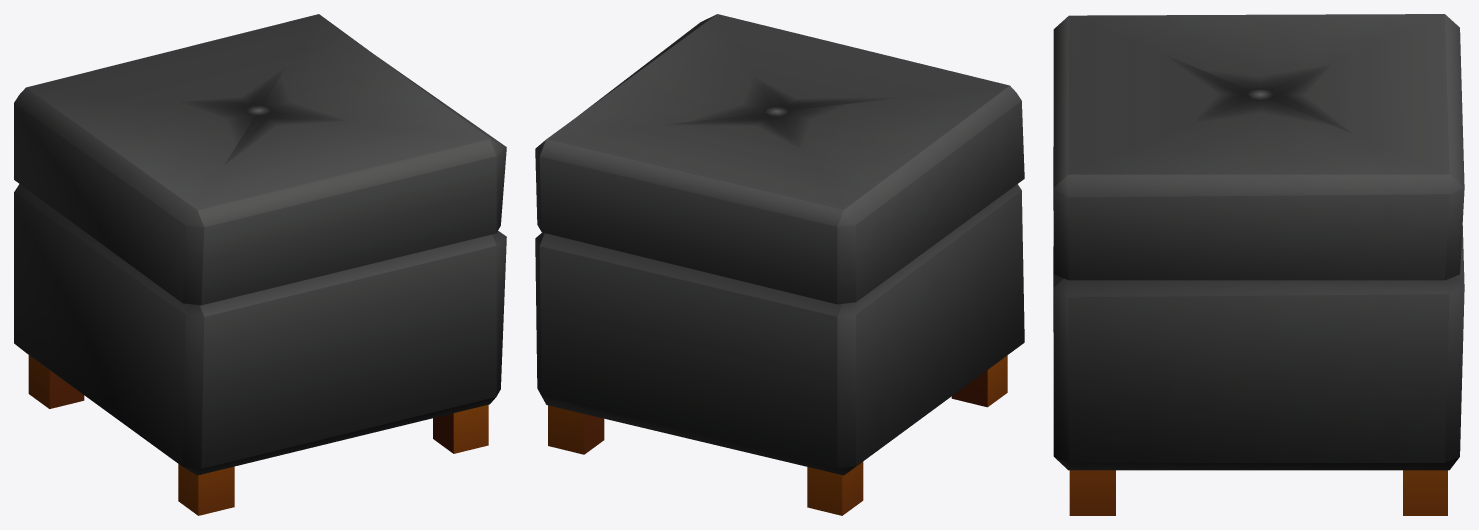
Rendered from TSP_Ottoman_01B.fbx.
The picture shows the model from 3 angles, left to right: view 1: azimuth 30°, elevation 25°; view 2: azimuth 150°, elevation 25°; view 3: azimuth 270°, elevation 25°; orthographic projection. The views are drawn at different scales.
Parts seen in each view (by area): view 1: TSP_Ottoman_01B; view 2: TSP_Ottoman_01B; view 3: TSP_Ottoman_01B.
Boxes of the visible parts, <box> form: TSP_Ottoman_01B: <box>14,14,506,515</box>; TSP_Ottoman_01B: <box>535,14,1024,515</box>; TSP_Ottoman_01B: <box>1053,14,1464,515</box>.
Size of the model in its own units: 0.5532 by 0.5019 by 0.5454.
